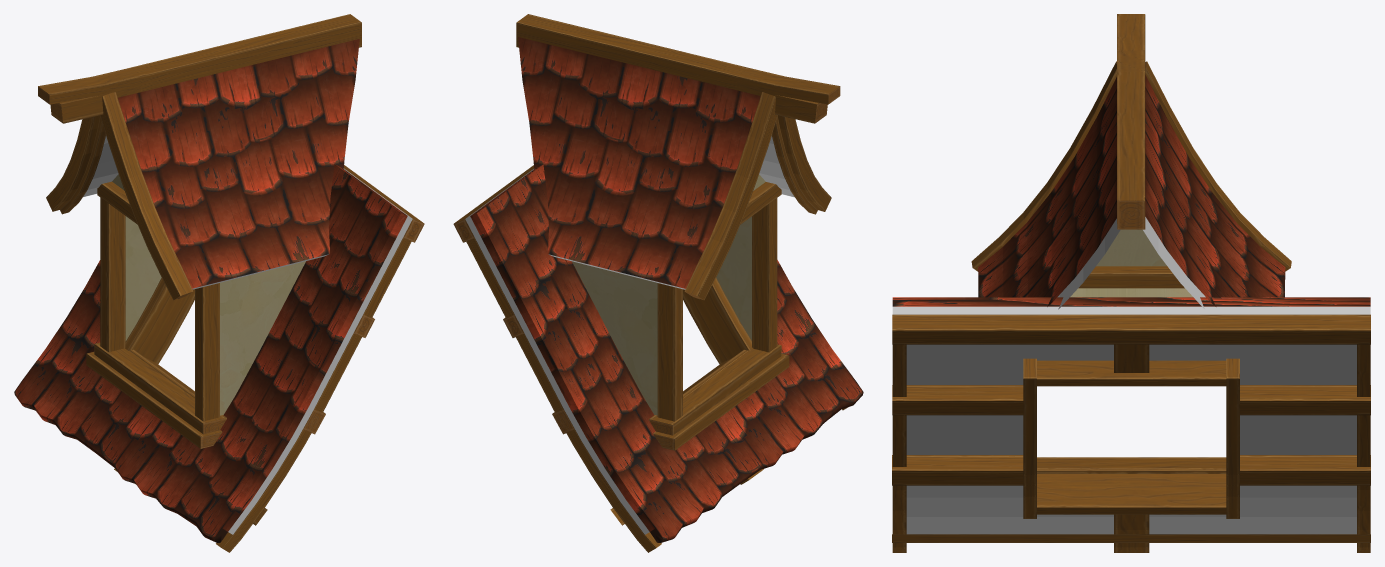
Rendered from SM_House_Roof_01_Middle_Tiling_WindowFrame.fbx.
3 renders of one model, left to right at view 1: azimuth 30°, elevation 25°; view 2: azimuth 150°, elevation 25°; view 3: azimuth 270°, elevation 25°, orthographic. The views are drawn at different scales.
Parts seen in each view (by area): view 1: SM_House_Roof_01_Middle_Tiling_WindowFrame; view 2: SM_House_Roof_01_Middle_Tiling_WindowFrame; view 3: SM_House_Roof_01_Middle_Tiling_WindowFrame.
Part boxes in pixels (x1=…): SM_House_Roof_01_Middle_Tiling_WindowFrame: x1=14, y1=14, x2=424, y2=552; SM_House_Roof_01_Middle_Tiling_WindowFrame: x1=453, y1=14, x2=863, y2=552; SM_House_Roof_01_Middle_Tiling_WindowFrame: x1=892, y1=14, x2=1370, y2=552.
Size of the model in its own units: 4.5 by 5.64 by 5.01.
